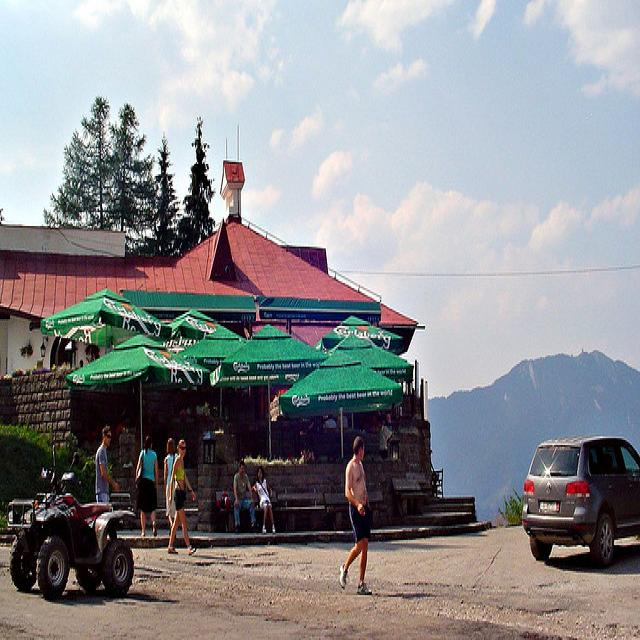motor: (8, 451, 137, 599)
